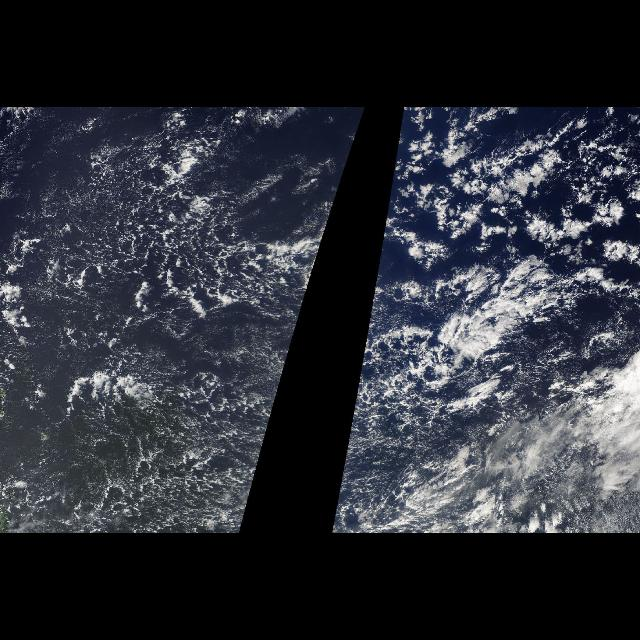Gravel: (1, 125, 300, 519)
Sugar: (9, 123, 360, 531), (344, 342, 366, 458)
